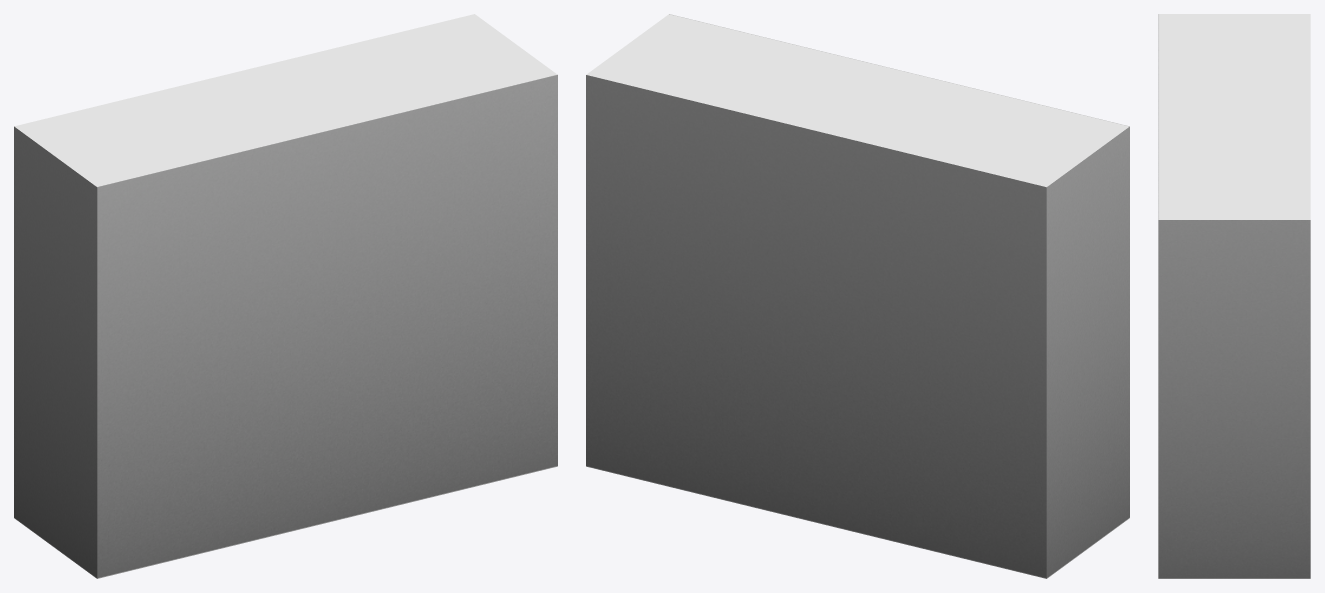
File: 01-panrallado.fbx
The picture shows the model from 3 angles, left to right: view 1: azimuth 30°, elevation 25°; view 2: azimuth 150°, elevation 25°; view 3: azimuth 270°, elevation 25°; orthographic projection. The views are drawn at different scales.
Parts seen in each view (by area): view 1: 01_obj_pan_1; view 2: 01_obj_pan_1; view 3: 01_obj_pan_1.
Boxes of the visible parts, <box> form: 01_obj_pan_1: <box>14,14,557,578</box>; 01_obj_pan_1: <box>586,14,1129,578</box>; 01_obj_pan_1: <box>1158,14,1310,578</box>.
Size of what is drawn, in the model's own units: 16 by 13 by 5.
Materials: 1 (1 with a texture image).
